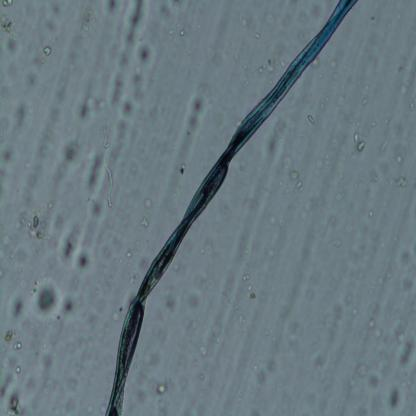Background material: (118, 0, 150, 67), (115, 66, 141, 140), (59, 237, 95, 277), (20, 210, 56, 242), (184, 82, 205, 135), (102, 130, 115, 211), (32, 282, 60, 319), (57, 134, 79, 176), (78, 86, 100, 126), (396, 250, 416, 292), (263, 120, 283, 161), (326, 301, 346, 342), (134, 37, 160, 68), (85, 148, 104, 190), (7, 291, 29, 325), (146, 374, 174, 398), (396, 331, 414, 368), (156, 287, 175, 321), (0, 14, 19, 42), (288, 169, 306, 198), (14, 102, 32, 131), (85, 192, 103, 221), (242, 273, 260, 301), (24, 58, 41, 86), (0, 367, 15, 398), (367, 315, 384, 341), (256, 59, 280, 77), (205, 322, 225, 343), (249, 363, 268, 385), (300, 193, 316, 219), (80, 9, 96, 35), (60, 293, 77, 316), (1, 236, 17, 260), (7, 390, 22, 414), (188, 292, 206, 312), (363, 372, 383, 389), (388, 385, 402, 409), (66, 368, 79, 393), (42, 350, 56, 373), (25, 372, 40, 393), (290, 320, 301, 347), (354, 131, 366, 155), (16, 243, 31, 262), (266, 213, 286, 227), (329, 58, 341, 81), (232, 308, 247, 326), (218, 205, 235, 220), (42, 377, 57, 394), (0, 354, 19, 367), (108, 306, 123, 322), (332, 188, 348, 202), (6, 38, 18, 56), (43, 20, 58, 34), (3, 149, 18, 163), (128, 270, 139, 289), (347, 114, 359, 131), (52, 0, 64, 17), (396, 175, 409, 189), (338, 96, 349, 111), (107, 0, 118, 15), (305, 112, 318, 124), (42, 44, 52, 58), (13, 340, 23, 354), (360, 367, 370, 381), (21, 319, 32, 331), (198, 344, 207, 358), (5, 331, 14, 345), (144, 197, 153, 211), (394, 154, 405, 165), (1, 0, 13, 10), (85, 404, 95, 416), (46, 199, 56, 211), (30, 281, 37, 298), (142, 214, 150, 228), (400, 83, 408, 96), (347, 378, 357, 388), (381, 142, 390, 153), (332, 241, 343, 250), (178, 162, 185, 175), (235, 52, 241, 65), (409, 99, 416, 110), (33, 348, 40, 358), (199, 372, 205, 383), (368, 209, 374, 220), (32, 331, 40, 339), (253, 32, 262, 38), (15, 366, 21, 374), (16, 265, 22, 273), (126, 250, 132, 258), (268, 250, 274, 258), (56, 314, 62, 320), (178, 30, 184, 36), (96, 287, 100, 295), (363, 99, 368, 105), (372, 121, 378, 126)
Cotton: (103, 0, 359, 414)
